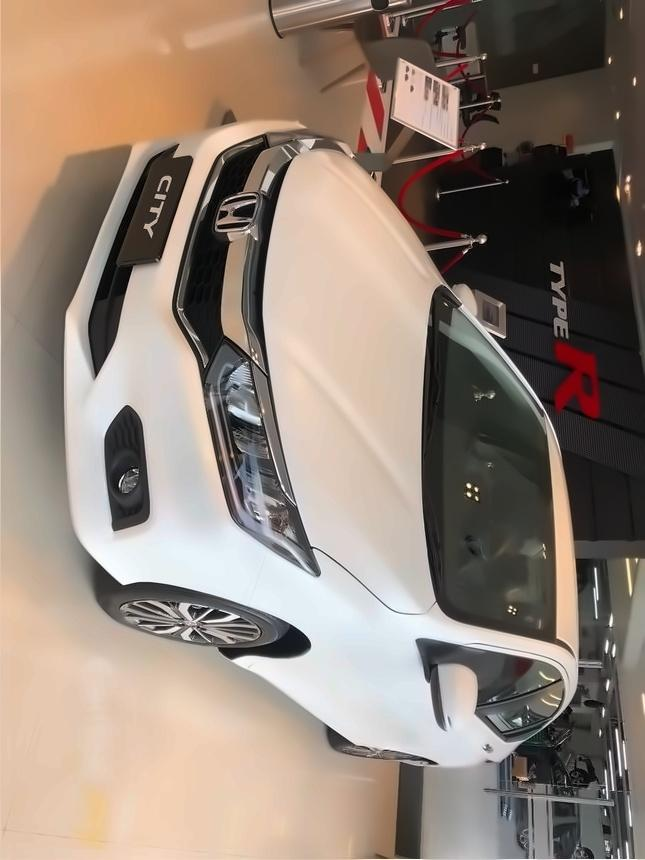Car hood: (257, 144, 436, 620)
Fender - -F-L-: (246, 536, 440, 664)
Front bumper: (56, 116, 225, 594)
Headlight - -L-: (200, 329, 327, 580)
Headlight - -R-: (259, 122, 360, 164)
Passenger-s door - -F-L-: (250, 634, 579, 705)
Passenger-s door - -R-L-: (336, 687, 583, 764)
Side bumper - -L-: (226, 644, 373, 753)
Side mirror - -L-: (424, 652, 483, 743)
Side mirror - -R-: (439, 267, 488, 325)
